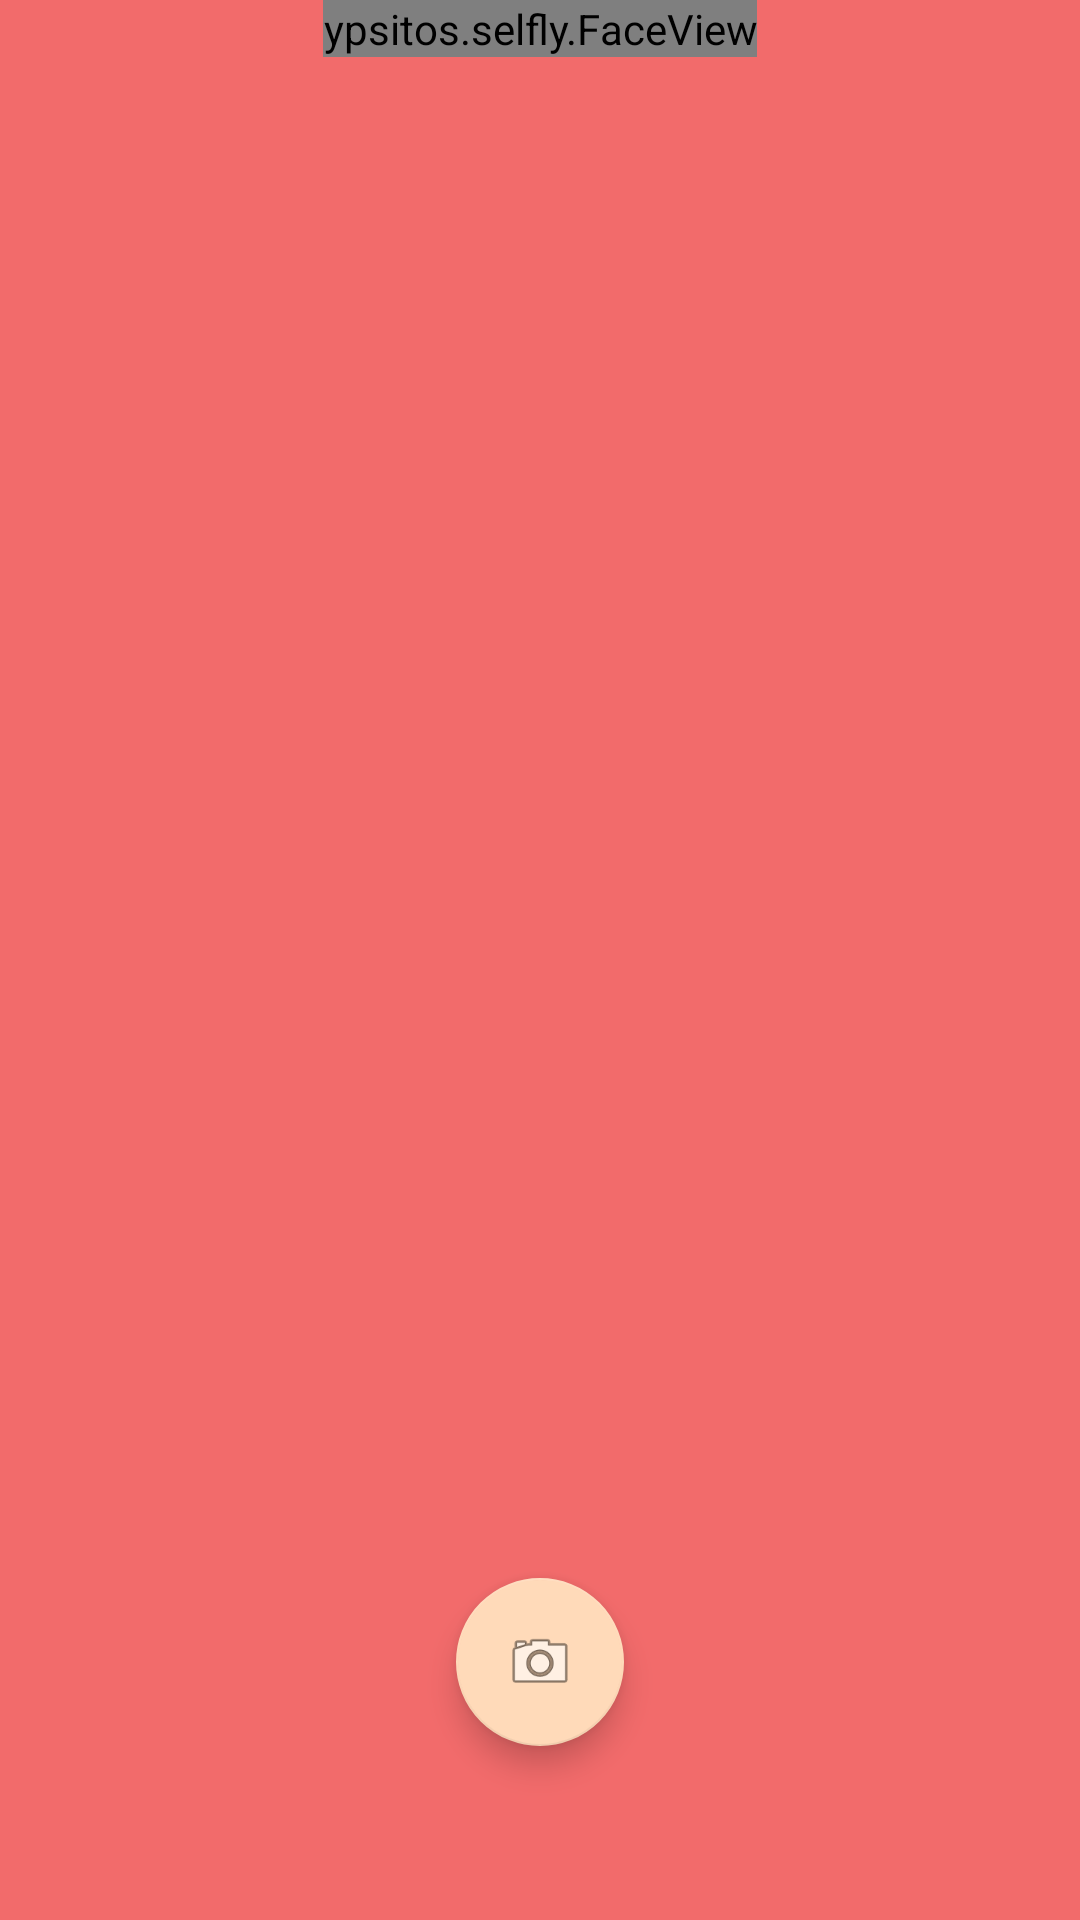

Point at icon controls on the screen. Image size 1080 x 1920, points as point (x, y).
camera: point (540, 1662)
